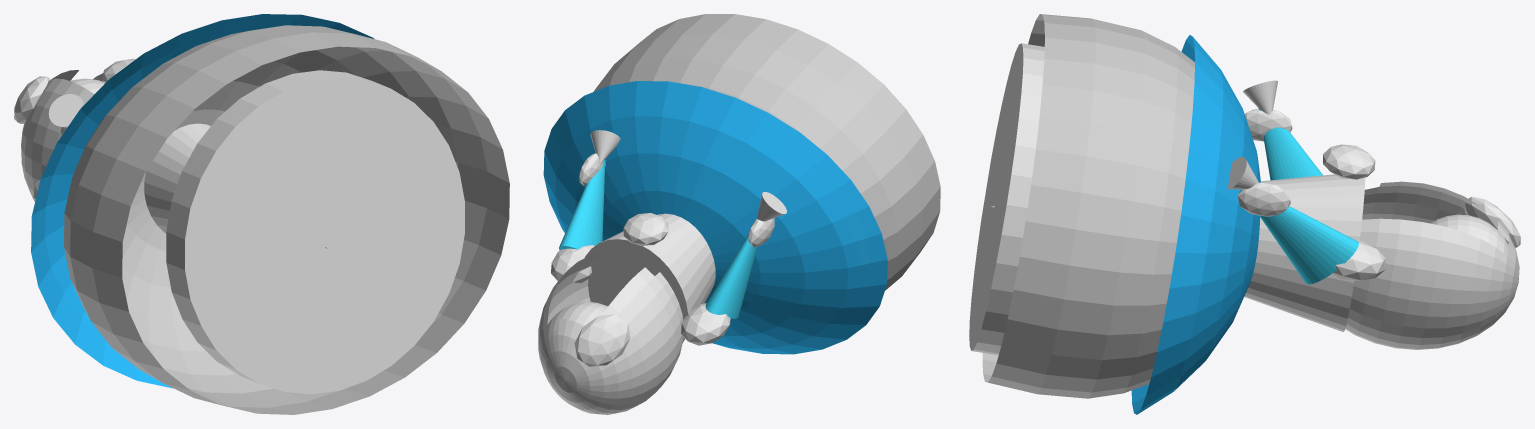
File: meninaup.glb
The picture shows the model from 3 angles, left to right: view 1: azimuth 30°, elevation 25°; view 2: azimuth 150°, elevation 25°; view 3: azimuth 270°, elevation 25°; orthographic projection. The views are drawn at different scales.
Parts seen in each view (by area): view 1: Cilindro; view 2: Cilindro; view 3: Cilindro.
Part boxes in pixels (x1=…): Cilindro: x1=14, y1=14, x2=509, y2=414; Cilindro: x1=538, y1=14, x2=940, y2=414; Cilindro: x1=969, y1=14, x2=1520, y2=414.
Size of the model in its own units: 2.52 by 2.11 by 3.
Materials: 16 (4 with a texture image).
